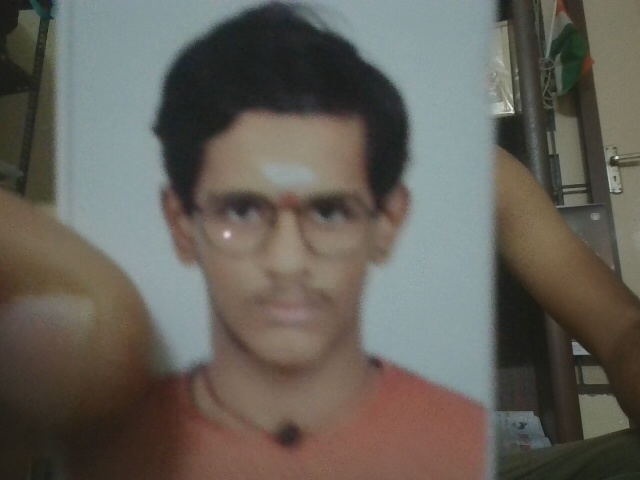fake: (150, 113, 421, 384)
